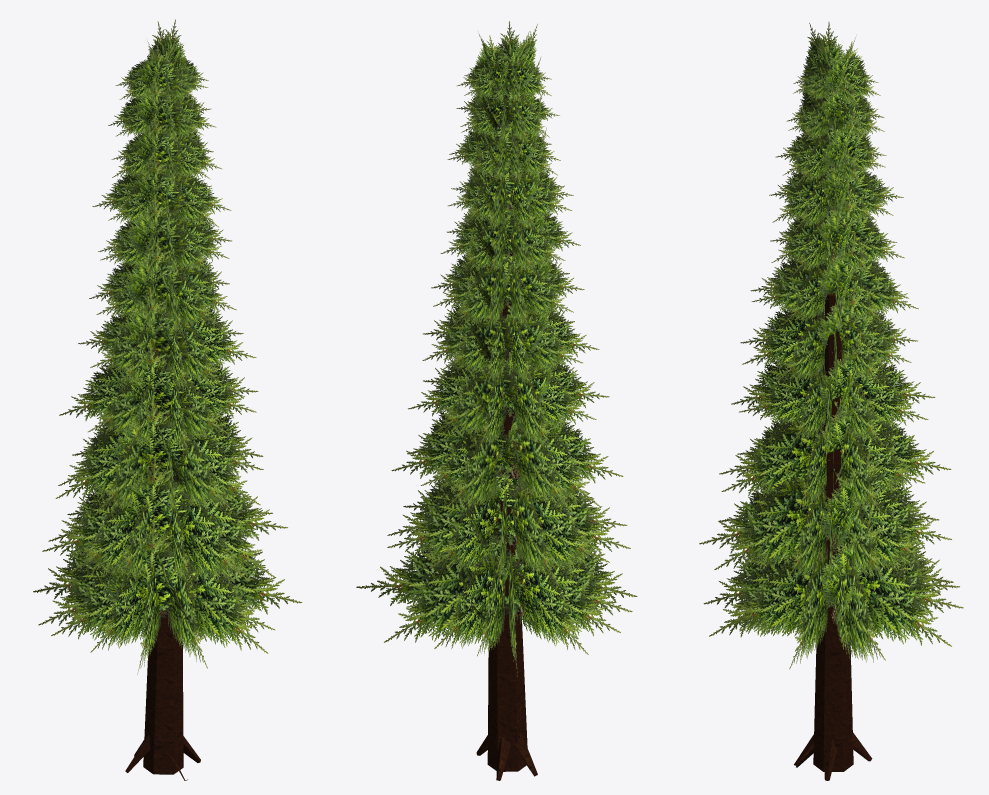
Rendered from tree_pine_02_real.gltf.
The picture shows the model from 3 angles, left to right: view 1: azimuth 30°, elevation 25°; view 2: azimuth 150°, elevation 25°; view 3: azimuth 270°, elevation 25°; orthographic projection.
Parts seen in each view (by area): view 1: tree_pine_02; view 2: tree_pine_02; view 3: tree_pine_02.
Part boxes in pixels (bbox=[...]): tree_pine_02: bbox=[33, 19, 302, 780]; tree_pine_02: bbox=[356, 21, 637, 780]; tree_pine_02: bbox=[699, 22, 963, 780].
Size of the model in its own units: 2.92 by 8.03 by 2.87.
Materials: 2 (2 with a texture image).
